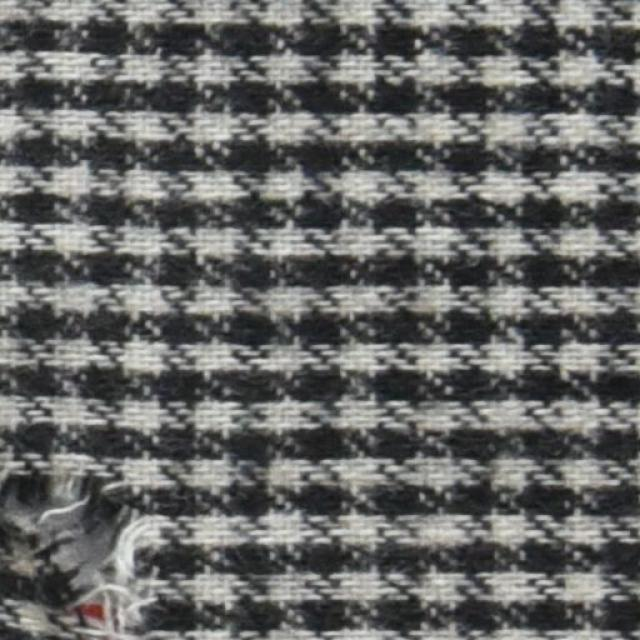Hole: (26, 496, 118, 589)
Snag: (1, 450, 178, 638)
